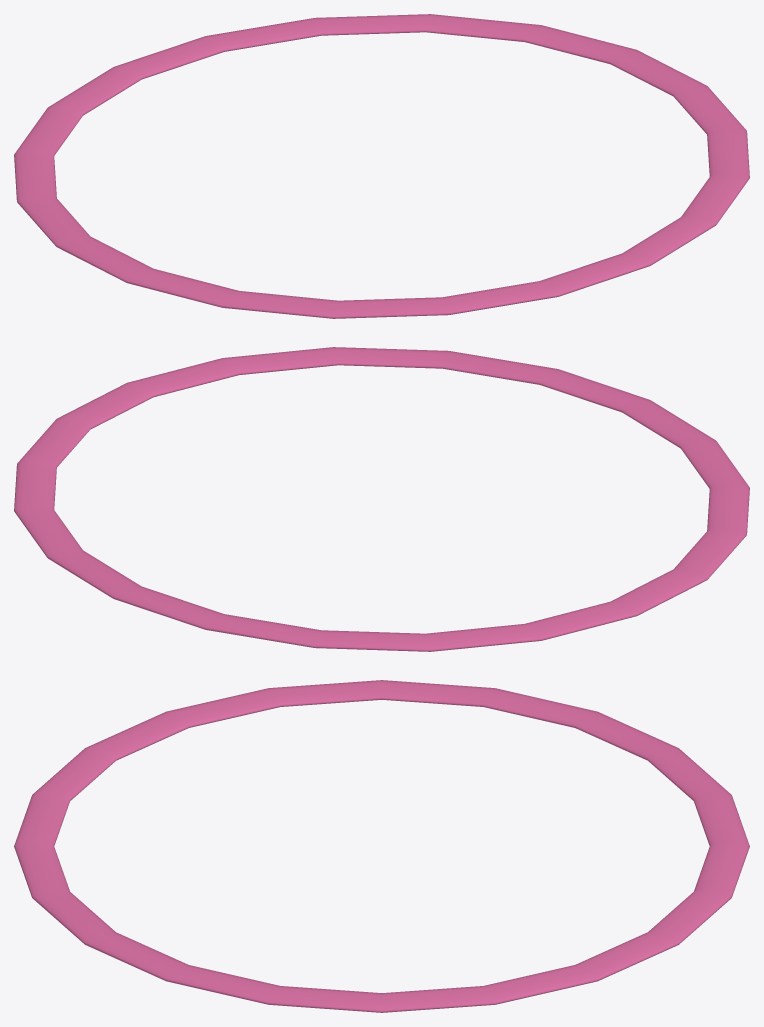
File: Wave.fbx
3 renders of one model, top to bottom at view 1: azimuth 30°, elevation 25°; view 2: azimuth 150°, elevation 25°; view 3: azimuth 270°, elevation 25°, orthographic. The views are drawn at different scales.
Parts seen in each view (by area): view 1: pTorus1; view 2: pTorus1; view 3: pTorus1.
Boxes of the visible parts, <box> form: pTorus1: <box>14,14,749,318</box>; pTorus1: <box>14,347,749,651</box>; pTorus1: <box>14,680,749,1012</box>.
Bounding box in the file's own units: 85.75 × 1 × 80.53.
